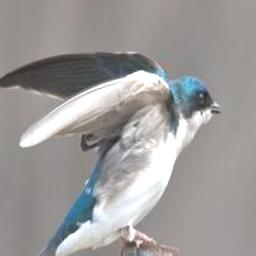Swallow: (0, 45, 225, 256)
